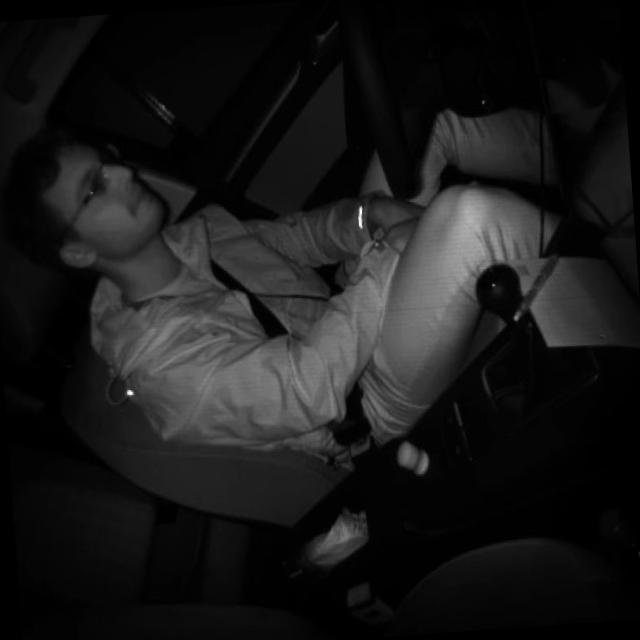pen: (506, 250, 566, 324)
